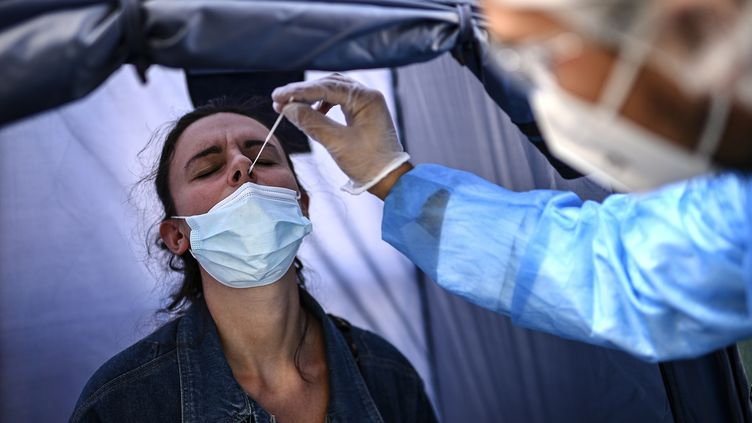with_incorrect_mask: (184, 130, 288, 234)
